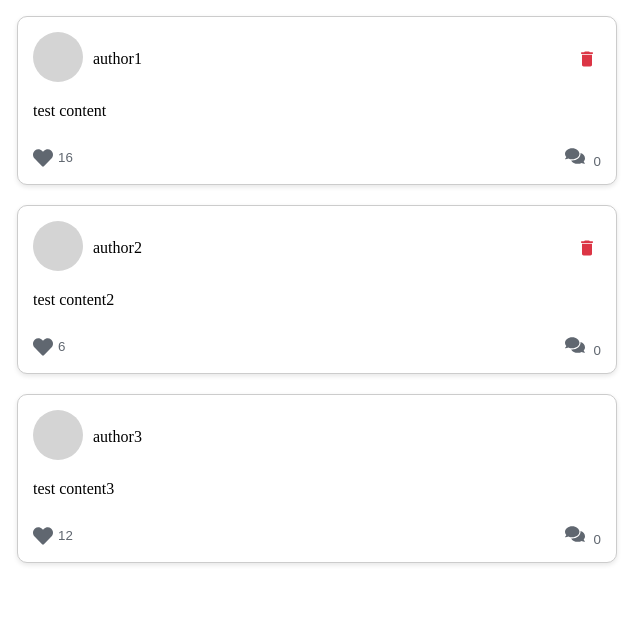
Test: Post list › Displays an error message when the delete operation fails
Click the button named "delete post" in the row of "author1": (587, 59) [573,45,601,73]
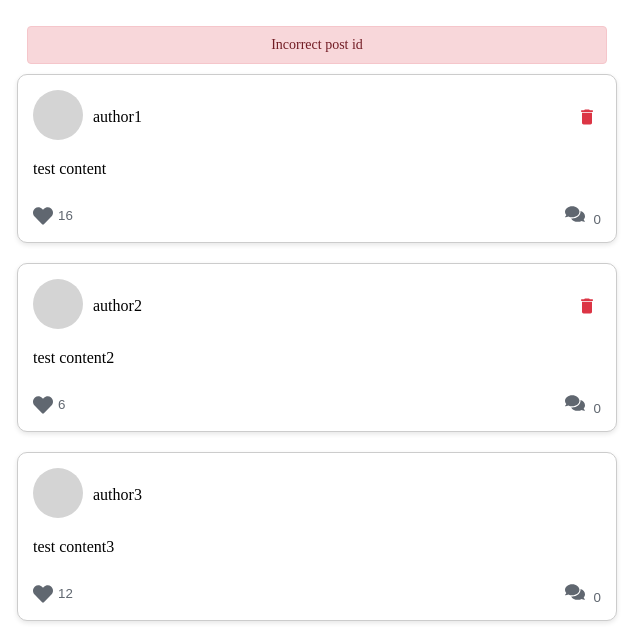
Expected: the text "Incorrect post id" is shown, [27,26,607,64]
